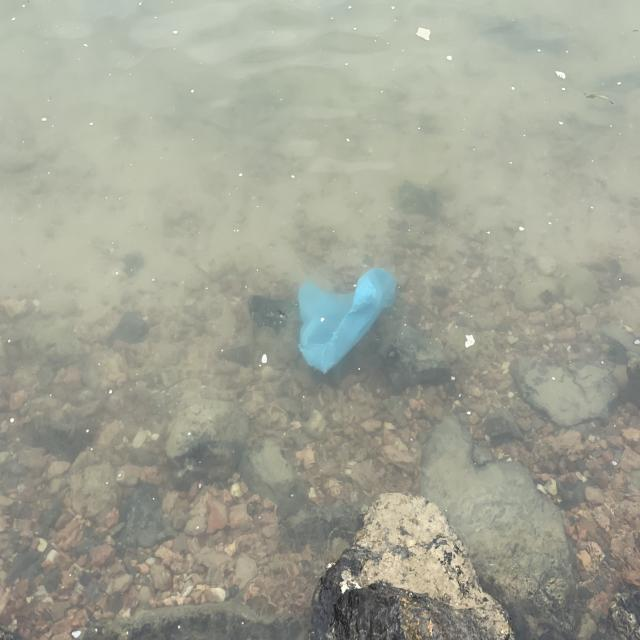Kantong Plastik: (295, 264, 398, 374)
